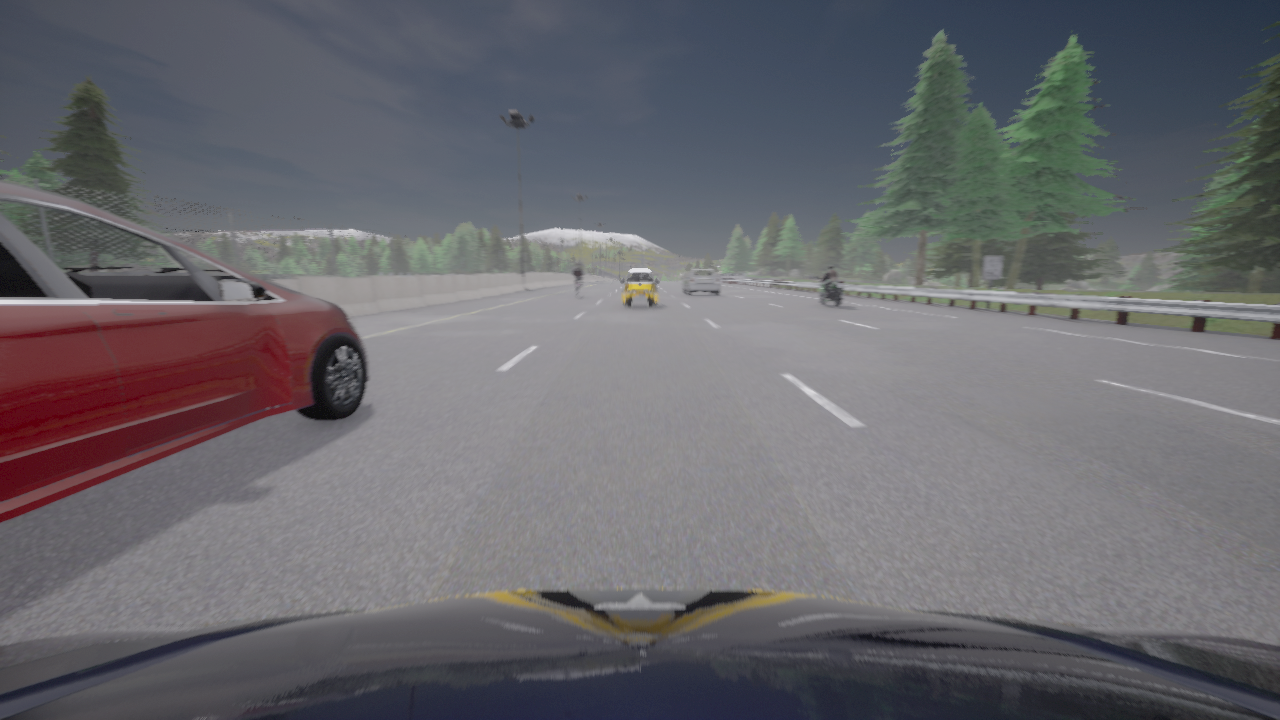cyclist: (0, 588, 1279, 719), (621, 269, 659, 307), (682, 269, 720, 295), (815, 276, 845, 307), (577, 282, 581, 296), (634, 267, 647, 269)
